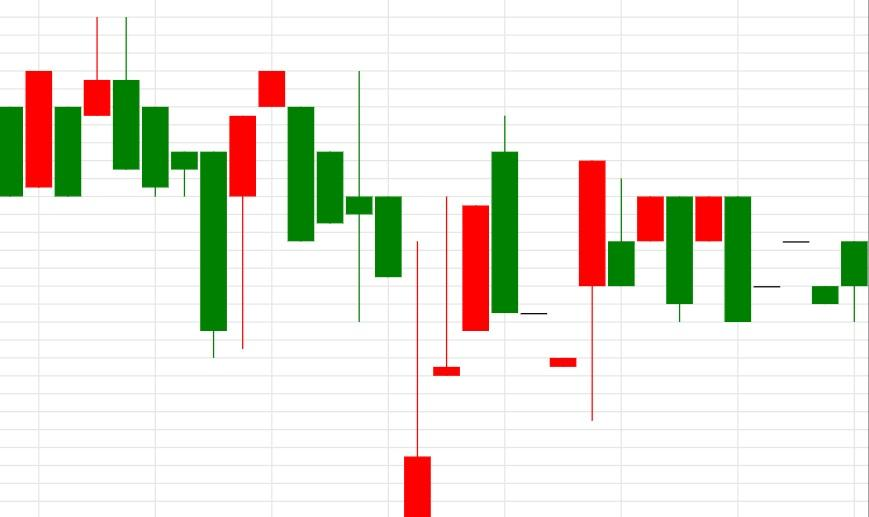bearish_engulfing_fall: (549, 161, 752, 421), (549, 160, 695, 421), (0, 17, 140, 197)
inverse_hammer_rise: (258, 70, 432, 517)
